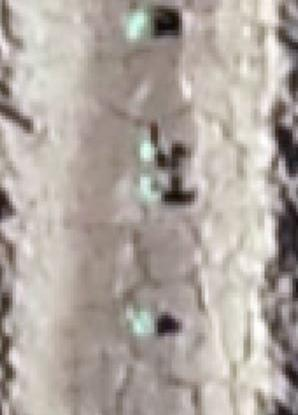cotton: (126, 11, 153, 36), (132, 311, 157, 335), (141, 176, 162, 199), (138, 139, 158, 160)
